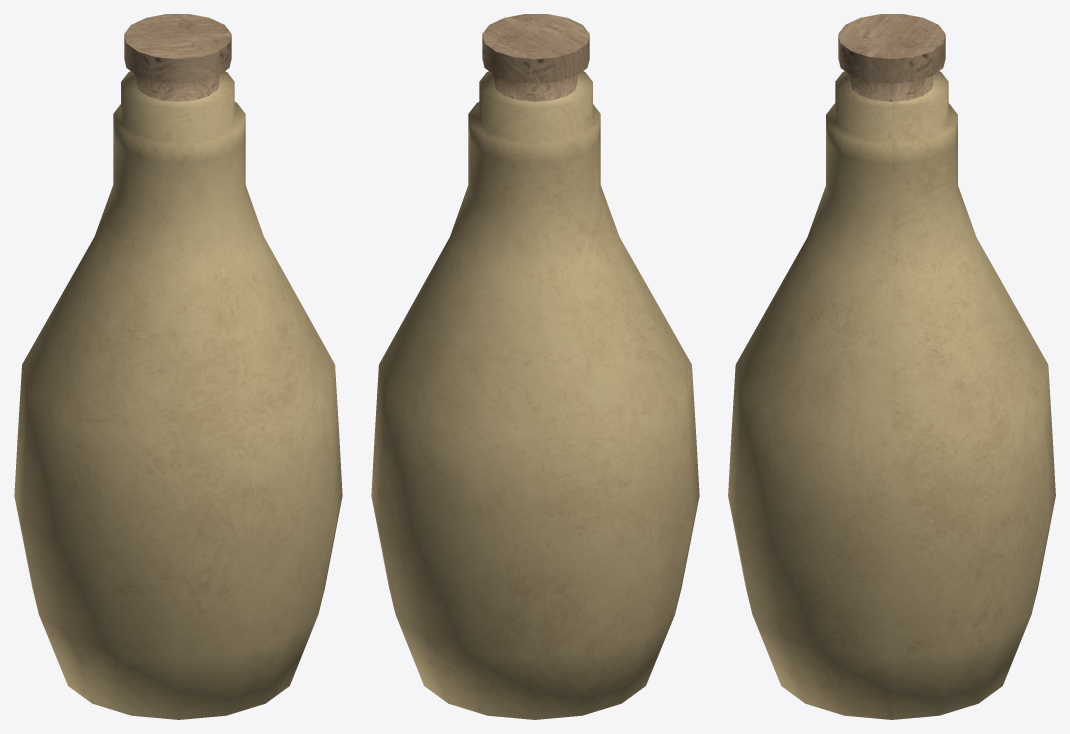
File: Jar1.fbx
The picture shows the model from 3 angles, left to right: view 1: azimuth 30°, elevation 25°; view 2: azimuth 150°, elevation 25°; view 3: azimuth 270°, elevation 25°; orthographic projection.
Parts seen in each view (by area): view 1: Jar1; view 2: Jar1; view 3: Jar1.
Part boxes in pixels (x1=…): Jar1: x1=14, y1=14, x2=342, y2=719; Jar1: x1=371, y1=14, x2=699, y2=719; Jar1: x1=728, y1=14, x2=1055, y2=719.
Size of the model in its own units: 0.4827 by 1.04 by 0.4853.
Materials: 1 (1 with a texture image).
